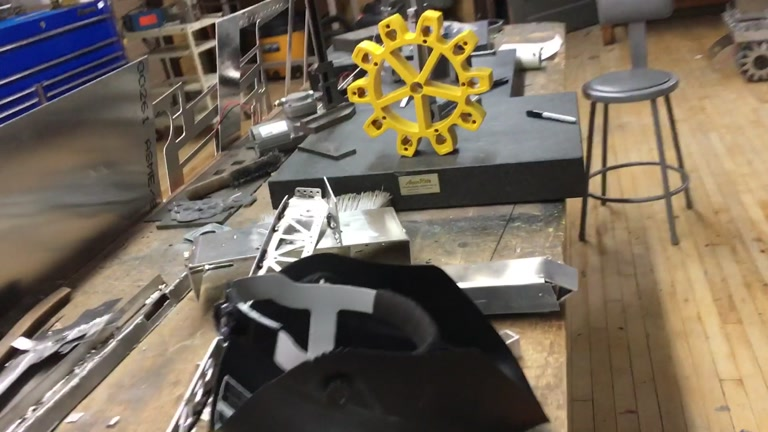gear: (346, 10, 495, 158)
